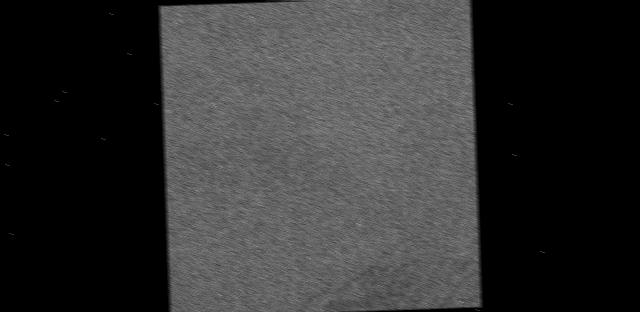water_spot: (166, 240, 482, 312)
